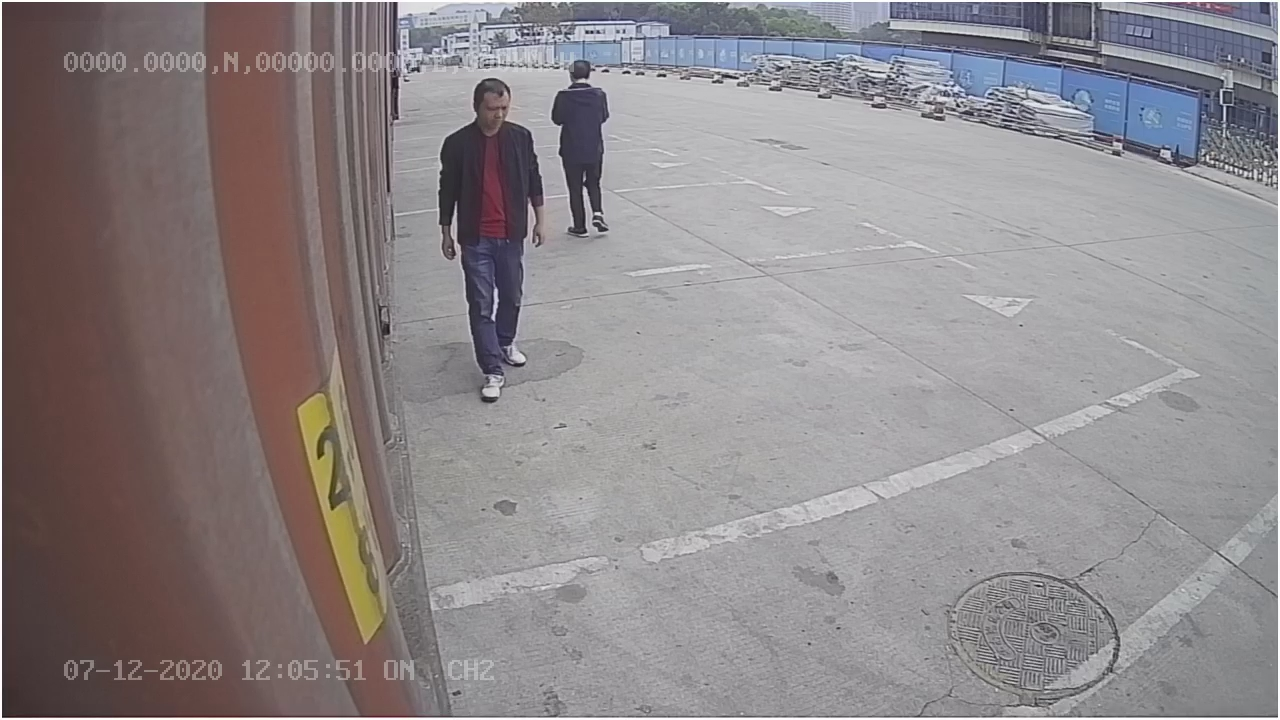person: (436, 73, 551, 403)
